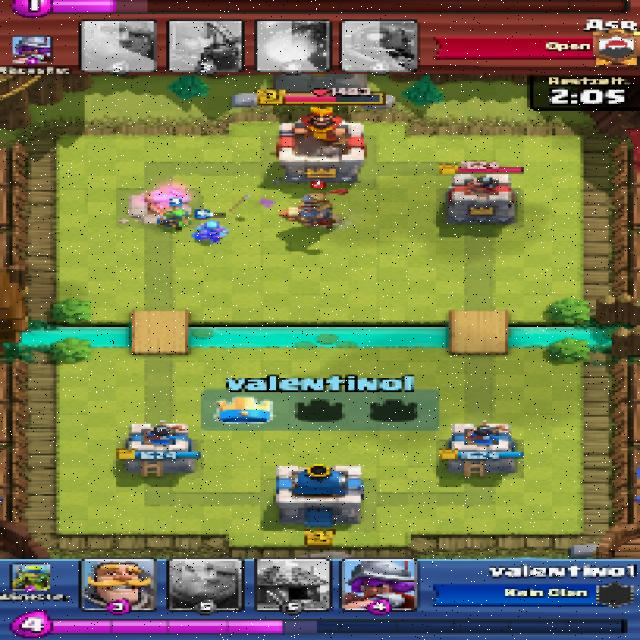Enemy-Prince: (282, 192, 340, 227)
Player-SpearGoblin: (193, 222, 227, 242), (163, 209, 190, 228)
